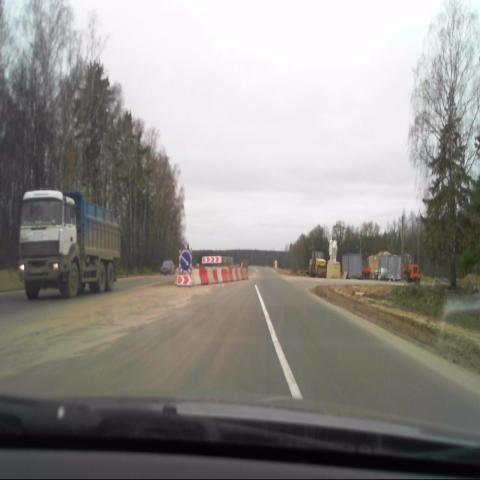4_2_1: (180, 248, 192, 272)
